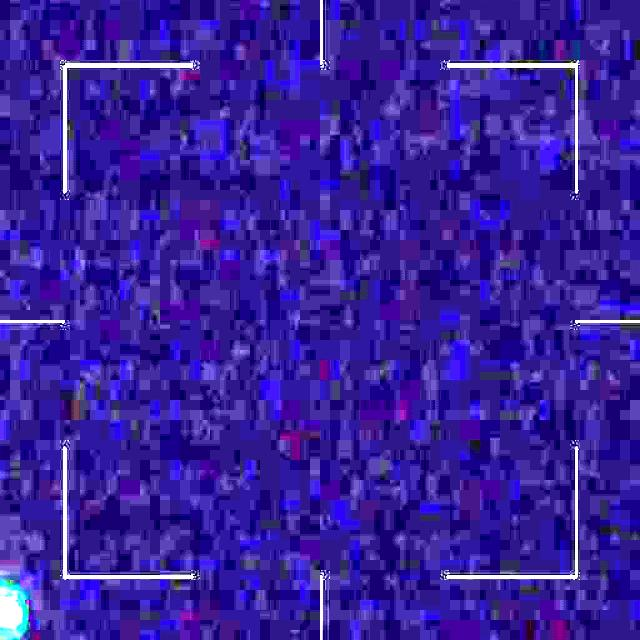bird: (0, 591, 24, 635)
